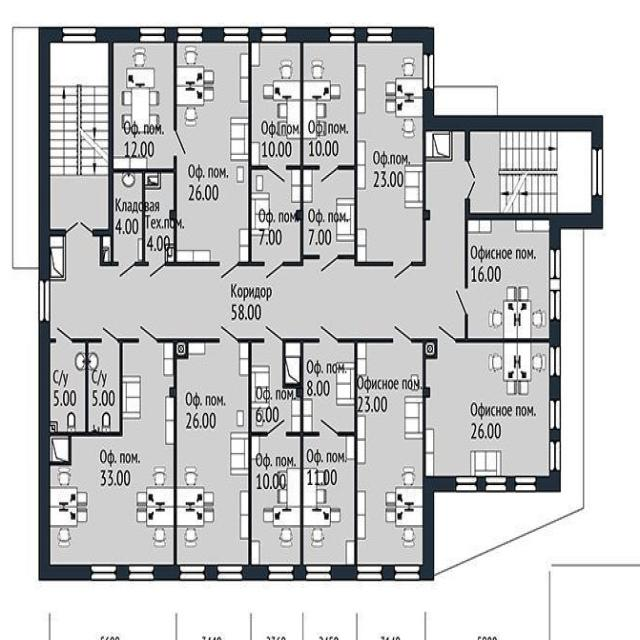Bathrooms: (51, 343, 85, 432), (90, 342, 120, 431)
Corridors: (51, 132, 464, 337), (114, 174, 142, 261), (146, 174, 173, 260)
Doors: (67, 219, 92, 237), (264, 323, 283, 344), (465, 162, 476, 198), (454, 289, 470, 313), (220, 261, 238, 282), (320, 323, 337, 345), (139, 322, 157, 342), (320, 253, 337, 274), (320, 416, 337, 437), (393, 262, 411, 281), (220, 323, 238, 342), (321, 164, 338, 184), (265, 261, 282, 281), (174, 131, 188, 155), (438, 323, 454, 343), (395, 323, 411, 343), (268, 417, 285, 435), (269, 165, 285, 184), (149, 261, 165, 280), (118, 262, 134, 280), (102, 325, 117, 342), (56, 325, 71, 342)
LBwalls: (38, 323, 89, 582), (422, 91, 604, 149), (39, 26, 61, 279), (421, 475, 454, 582), (550, 198, 604, 247), (394, 27, 436, 53), (288, 26, 329, 43), (97, 27, 138, 43), (538, 472, 561, 492), (333, 563, 356, 581), (156, 564, 177, 581), (244, 565, 266, 580), (203, 27, 223, 43), (549, 377, 561, 399), (550, 322, 561, 345), (294, 565, 305, 580), (117, 563, 126, 581), (206, 565, 216, 581), (356, 26, 366, 42), (166, 26, 176, 42), (250, 27, 260, 42), (384, 565, 393, 580), (549, 430, 561, 440), (508, 475, 515, 492), (479, 475, 485, 492)
Offices: (50, 343, 172, 565), (426, 344, 548, 474), (178, 343, 248, 563), (178, 45, 248, 260), (358, 343, 422, 562), (358, 44, 422, 261), (469, 221, 549, 338), (114, 44, 173, 168), (304, 438, 354, 562), (252, 436, 300, 563), (304, 44, 354, 164), (252, 44, 300, 165), (253, 170, 300, 261), (304, 345, 353, 430), (253, 345, 300, 430), (304, 171, 353, 252)
Stairs: (52, 44, 107, 227), (471, 133, 591, 212)
Walls: (157, 337, 220, 563), (337, 337, 394, 563), (337, 43, 393, 266), (114, 155, 220, 267), (49, 337, 141, 437), (282, 44, 320, 266), (283, 337, 320, 564), (464, 199, 550, 291), (238, 337, 269, 563), (238, 43, 269, 267), (92, 44, 120, 267), (411, 337, 438, 475), (455, 315, 550, 343), (412, 132, 426, 267), (173, 43, 177, 131), (465, 132, 470, 161), (51, 228, 66, 236), (50, 338, 57, 343)
Windows: (549, 249, 561, 321), (62, 26, 97, 43), (591, 151, 604, 196), (38, 280, 50, 322), (305, 564, 333, 581), (394, 565, 421, 582), (356, 565, 383, 582), (267, 564, 294, 581), (217, 564, 244, 581), (179, 565, 206, 582), (128, 565, 155, 582), (90, 564, 117, 581), (139, 26, 165, 43), (177, 27, 203, 44), (223, 26, 249, 43), (261, 26, 287, 43), (329, 26, 355, 43), (368, 27, 393, 44), (423, 53, 434, 90), (514, 475, 537, 492), (485, 476, 508, 493), (455, 476, 478, 493), (549, 400, 560, 430), (549, 441, 560, 471), (550, 347, 560, 377)
